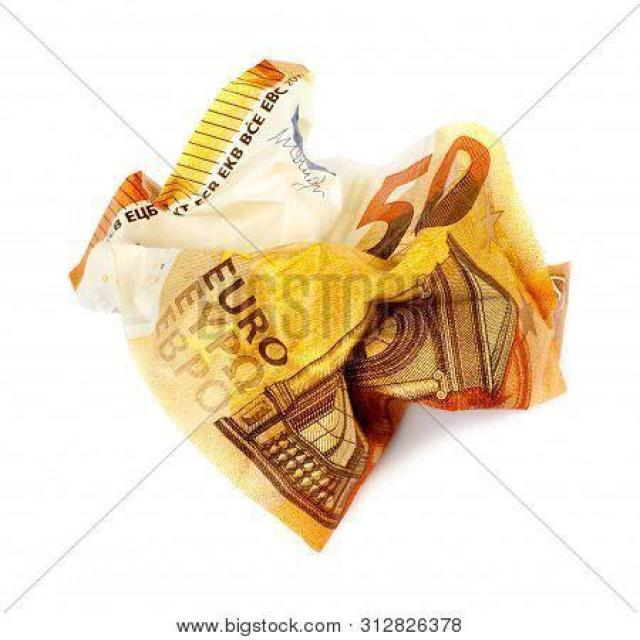banknote: (64, 42, 572, 555), (345, 131, 511, 265)
